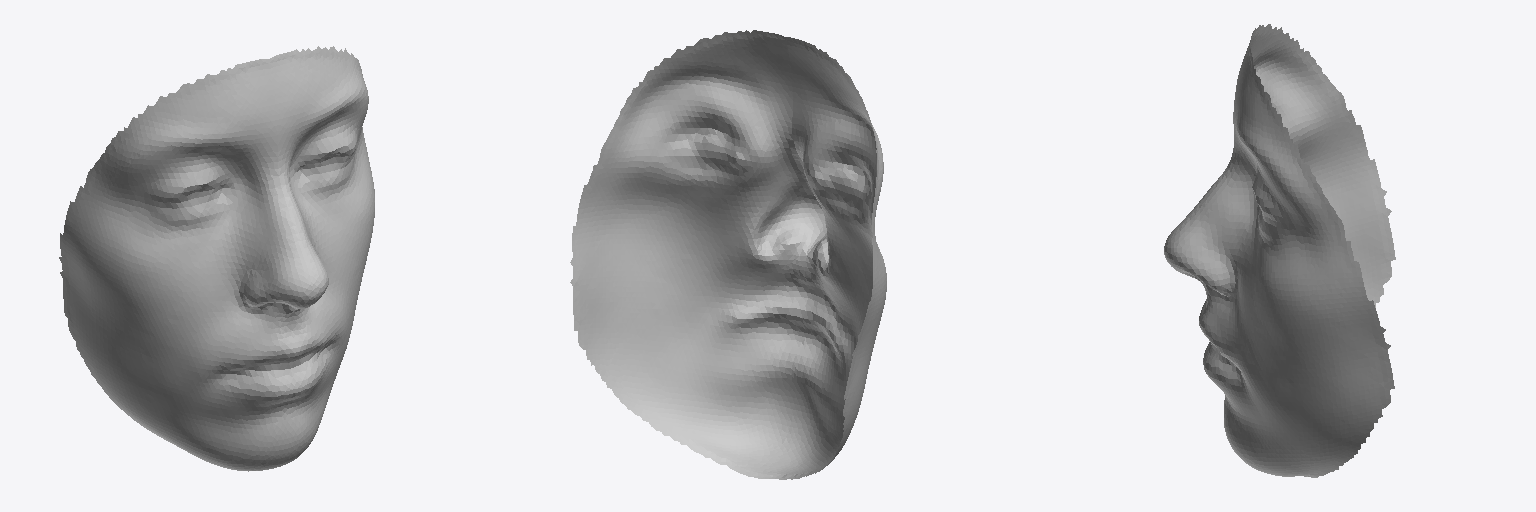
The model's file is SIMPOP_39.obj.
3 views of the same model, side by side, from view 1: azimuth 30°, elevation 25°; view 2: azimuth 150°, elevation 25°; view 3: azimuth 270°, elevation 25° (orthographic).
Visible parts, largest first — view 1: SIMPOP_39; view 2: SIMPOP_39; view 3: SIMPOP_39.
Boxes of the visible parts, x1=… form: SIMPOP_39: x1=59, y1=46, x2=374, y2=471; SIMPOP_39: x1=570, y1=30, x2=886, y2=479; SIMPOP_39: x1=1164, y1=24, x2=1395, y2=477.
Size of the model in its own units: 123 by 166 by 82.99.